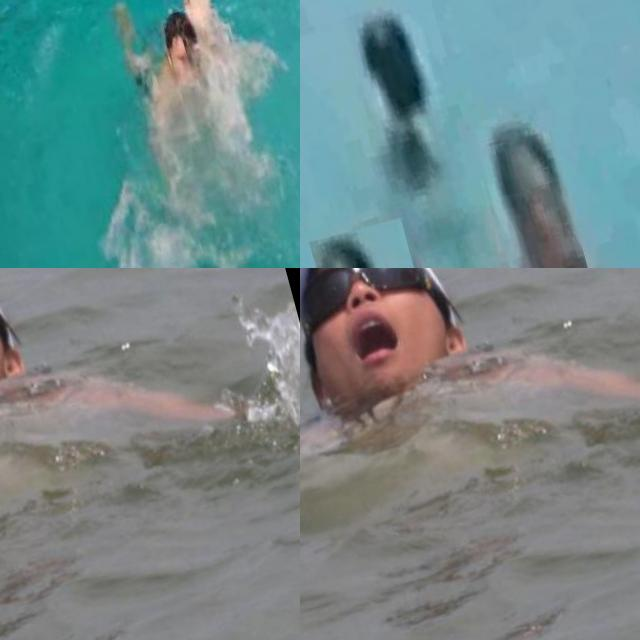drowning: (300, 268, 640, 571), (0, 268, 300, 593), (300, 0, 476, 217), (93, 0, 262, 153)
swimming: (476, 129, 597, 268), (307, 217, 434, 268)
